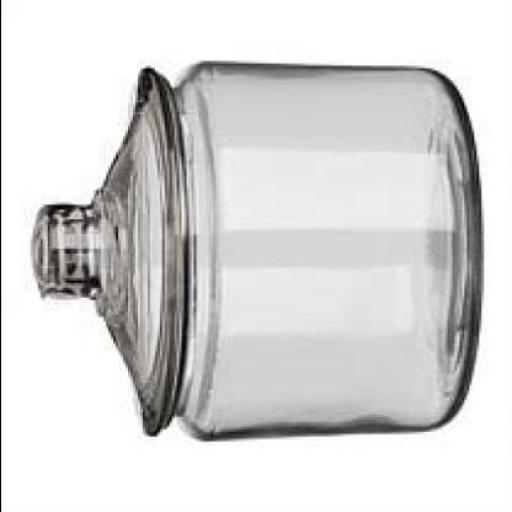glass: (30, 61, 478, 439)
